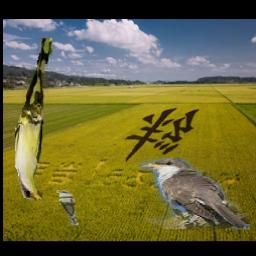Cuckoo: (139, 158, 250, 229), (14, 39, 51, 201), (55, 191, 77, 226)
